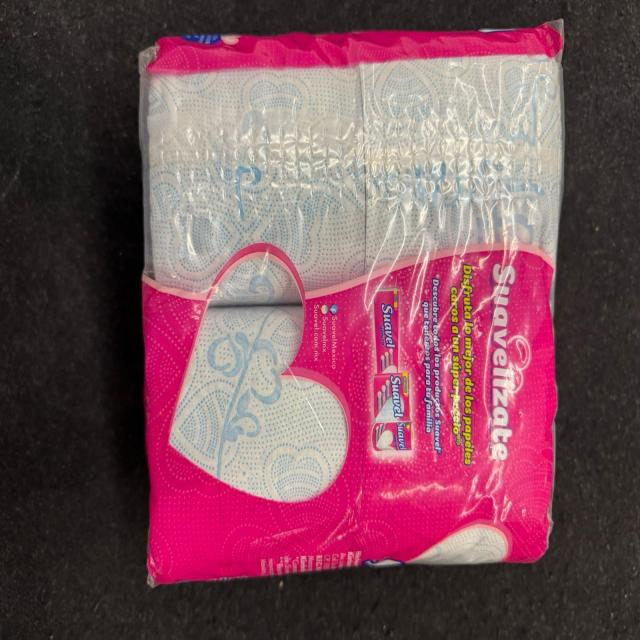Higienico Suavel 325h 4rollos: (138, 31, 564, 588)
